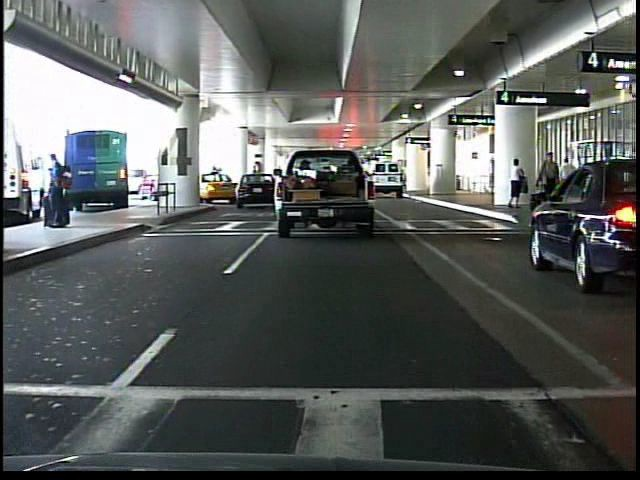person: (42, 145, 76, 236), (537, 149, 563, 217), (504, 155, 528, 211), (560, 154, 577, 175)
